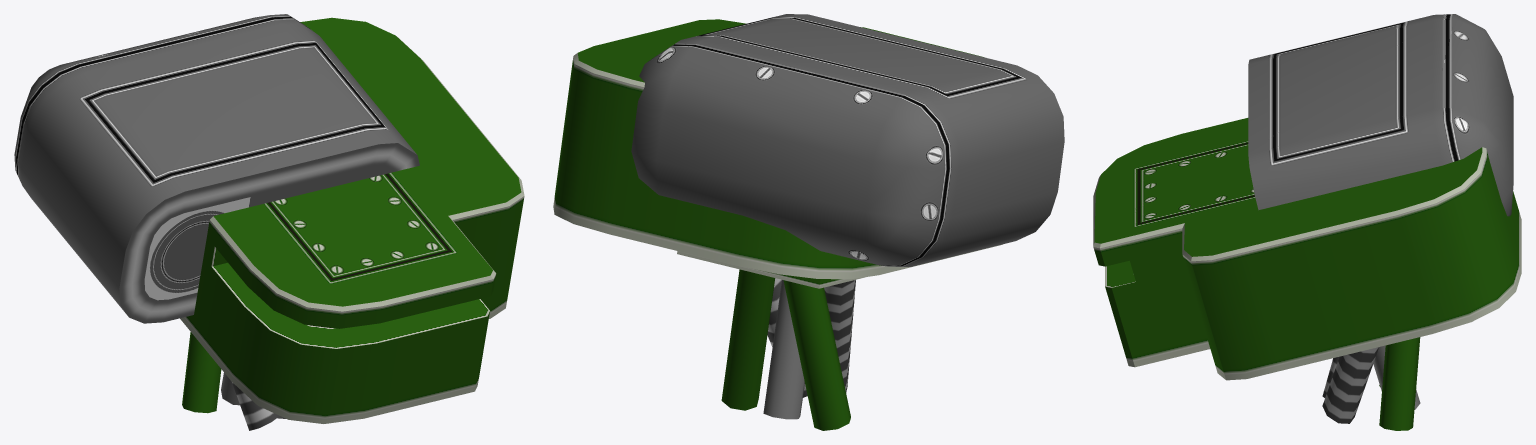
Rendered from head_h.fbx.
3 renders of one model, left to right at view 1: azimuth 30°, elevation 25°; view 2: azimuth 150°, elevation 25°; view 3: azimuth 270°, elevation 25°, orthographic. The views are drawn at different scales.
Parts seen in each view (by area): view 1: HEAD_H; view 2: HEAD_H; view 3: HEAD_H.
Part boxes in pixels (x1,y1,x2,y2): HEAD_H: (14,14,524,430); HEAD_H: (553,14,1064,430); HEAD_H: (1093,14,1521,430).
Bounding box in the file's own units: 25.4 × 23.27 × 27.07.
